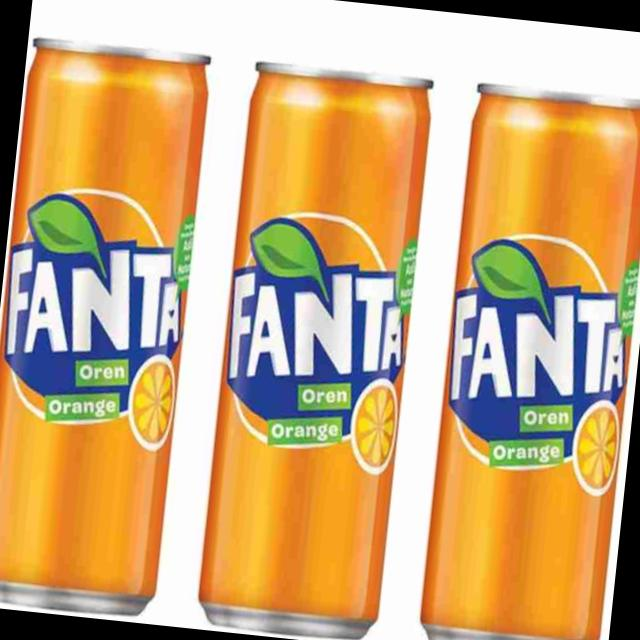fanta: (189, 56, 439, 640), (408, 80, 640, 640), (0, 36, 214, 619)
